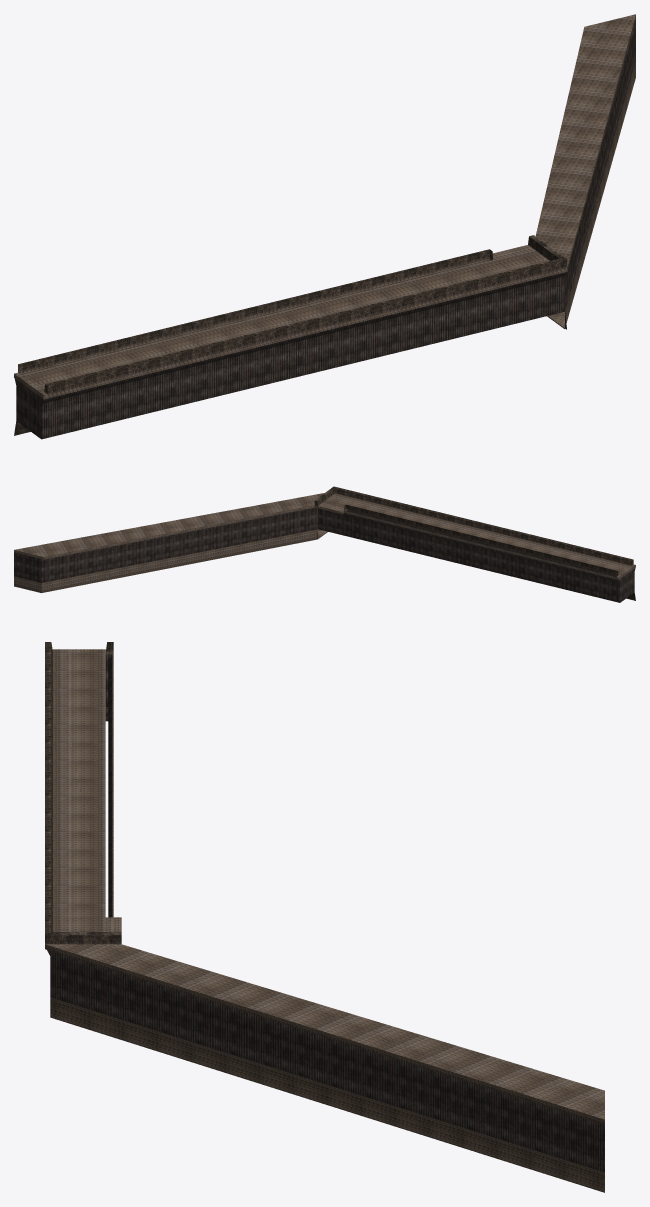
File: components_city_wallsb.glb
3 renders of one model, top to bottom at view 1: azimuth 30°, elevation 25°; view 2: azimuth 150°, elevation 25°; view 3: azimuth 270°, elevation 25°, orthographic. The views are drawn at different scales.
Parts seen in each view (by area): view 1: city_wallsb; view 2: city_wallsb; view 3: city_wallsb.
Part boxes in pixels (left/top/right/bottom): city_wallsb: left=14, top=14, right=635, bottom=439; city_wallsb: left=14, top=486, right=635, bottom=602; city_wallsb: left=45, top=642, right=604, bottom=1192.
Size of the model in its own units: 210 by 17.25 by 106.
Materials: 3 (3 with a texture image).
